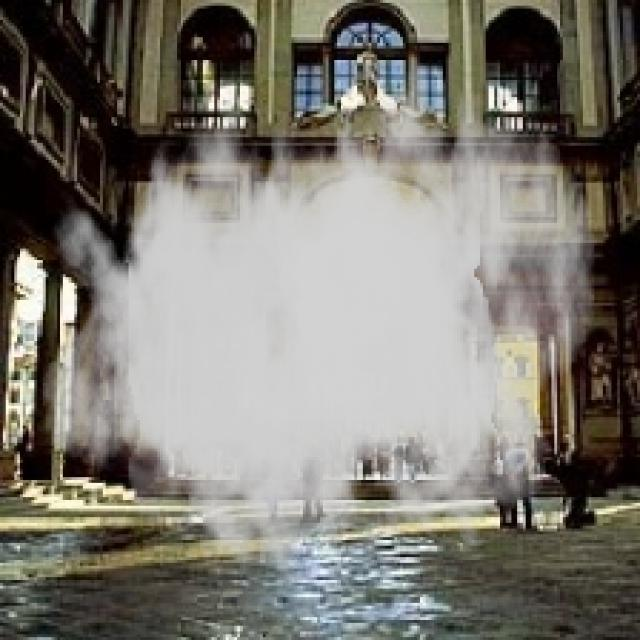smoke: (40, 32, 597, 594)
